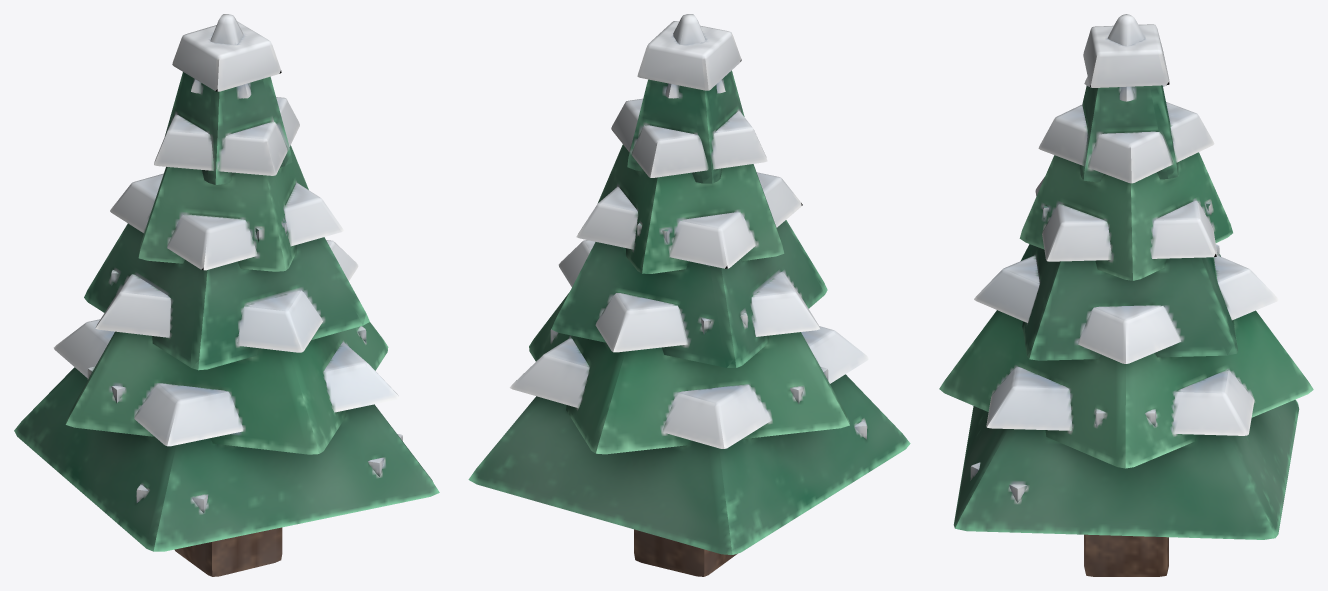
Rendered from Glace_SapinPetit.fbx.
3 renders of one model, left to right at view 1: azimuth 30°, elevation 25°; view 2: azimuth 150°, elevation 25°; view 3: azimuth 270°, elevation 25°, orthographic.
Visible parts, largest first — view 1: Glace_SapinPetit; view 2: Glace_SapinPetit; view 3: Glace_SapinPetit.
Boxes of the visible parts, x1,y1,x2,y2 form: Glace_SapinPetit: (14, 14, 439, 576); Glace_SapinPetit: (468, 14, 910, 576); Glace_SapinPetit: (939, 14, 1313, 576).
Bounding box in the file's own units: 528 × 849 × 528.
Materials: 1 (1 with a texture image).
